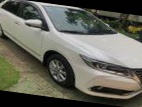car: (0, 0, 142, 103)
